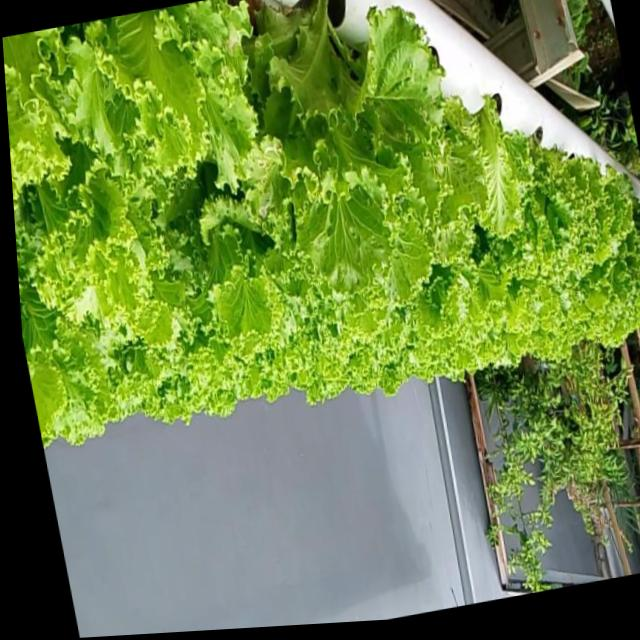Mature: (2, 0, 640, 457), (259, 0, 459, 293), (492, 119, 640, 326)
